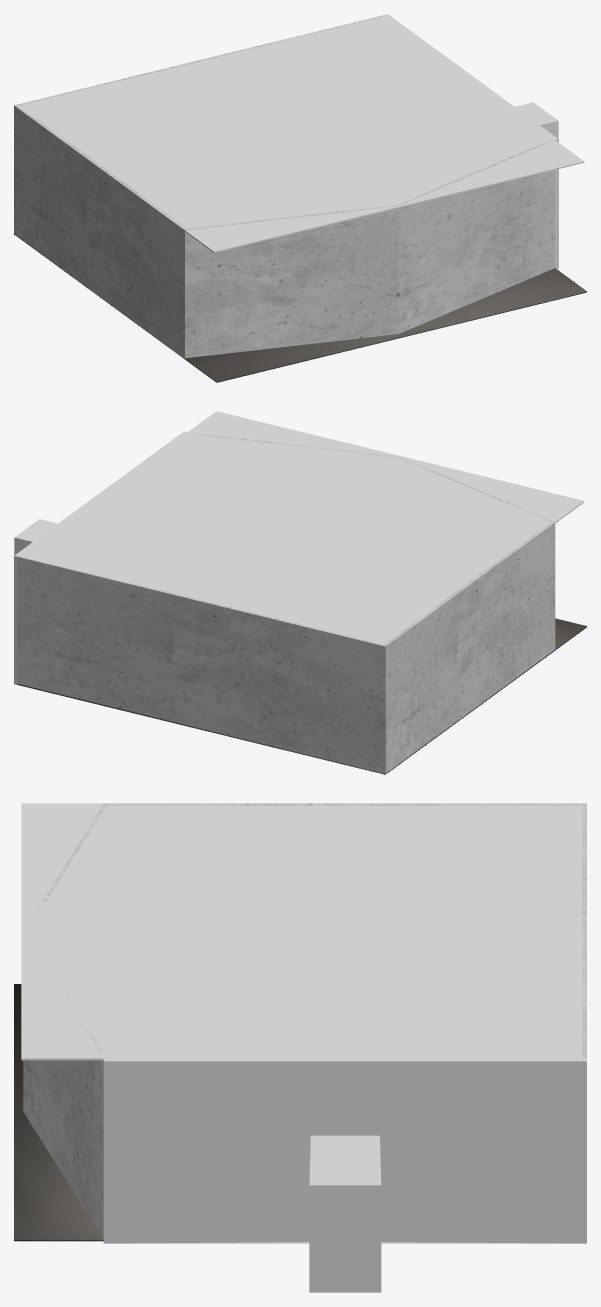
File: escena corta 2.fbx
3 views of the same model, one above another, from view 1: azimuth 30°, elevation 25°; view 2: azimuth 150°, elevation 25°; view 3: azimuth 270°, elevation 25° (orthographic). The views are drawn at different scales.
Visible parts, largest first — view 1: techo, muro E, muro S, Piso, muro N, muro O; view 2: techo, muro O, muro S, muro N, Piso, muro E; view 3: techo, muro N, muro E, Piso, muro S, muro O.
Boxes of the visible parts, box(x1,y1,x2,y2) form: techo: box(14, 15, 584, 252); muro E: box(184, 139, 555, 358); muro S: box(14, 106, 187, 359); Piso: box(14, 233, 586, 382); muro N: box(384, 14, 558, 268); muro O: box(14, 15, 385, 233); techo: box(18, 411, 584, 646); muro O: box(17, 556, 387, 774); muro S: box(382, 522, 555, 772); muro N: box(14, 431, 186, 684); Piso: box(17, 618, 586, 774); muro E: box(187, 432, 554, 522); techo: box(21, 803, 586, 1060); muro N: box(103, 1058, 586, 1292); muro E: box(23, 803, 107, 1238); Piso: box(14, 984, 103, 1241); muro S: box(103, 803, 585, 805); muro O: box(582, 803, 586, 1058).
Bounding box in the file's own units: 1809 × 500 × 1423.
